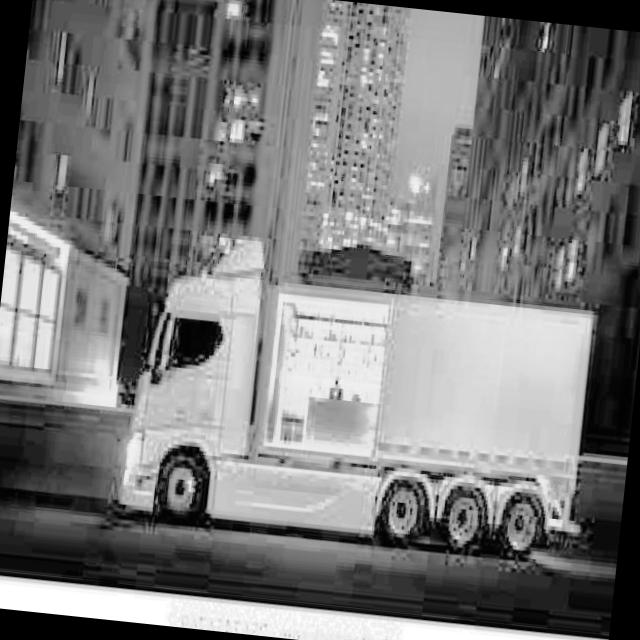Truck: (115, 222, 609, 568)
